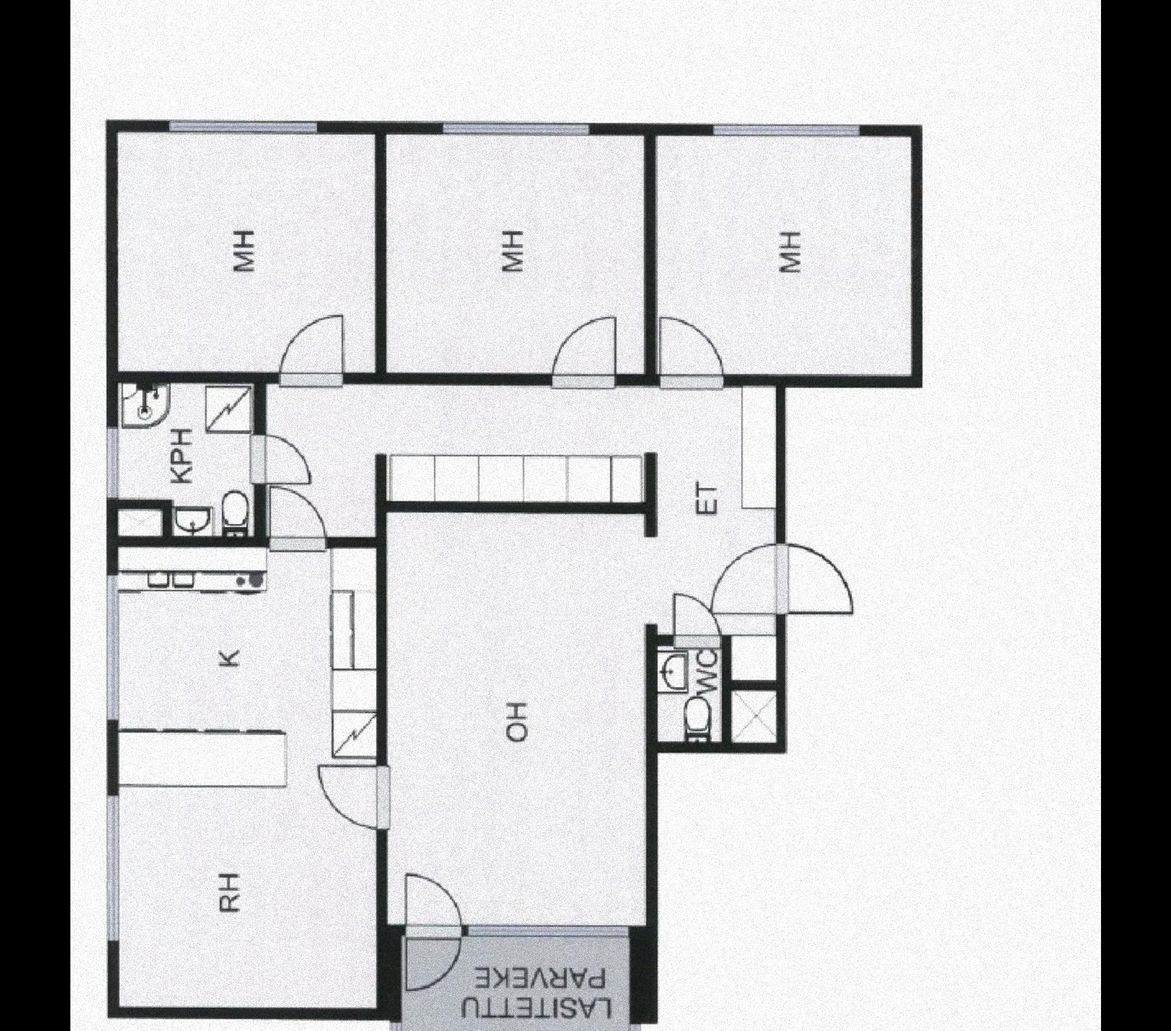door: (711, 537, 846, 617), (406, 869, 460, 997), (280, 311, 349, 392), (551, 313, 623, 385), (309, 766, 388, 831), (659, 318, 727, 388), (268, 490, 324, 554), (252, 432, 315, 488), (672, 595, 715, 651)
window: (102, 572, 123, 724), (720, 118, 859, 139), (465, 918, 625, 936), (170, 114, 317, 133), (447, 124, 594, 139), (105, 800, 118, 940), (108, 432, 120, 503), (631, 1025, 643, 1031), (393, 1026, 400, 1031)
zone: (118, 536, 386, 1005), (390, 518, 648, 927), (383, 139, 646, 375), (118, 133, 373, 371), (657, 137, 912, 373), (275, 387, 659, 540), (653, 385, 776, 639), (115, 372, 265, 538), (402, 940, 634, 1031), (655, 639, 776, 744)
